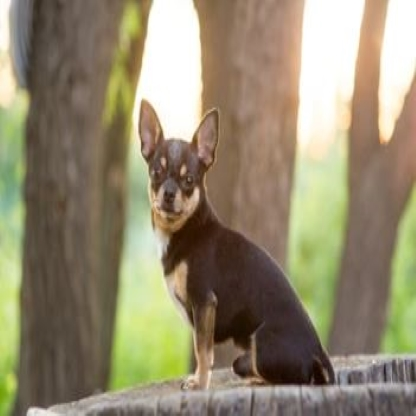chihuahua: (134, 97, 341, 385)
